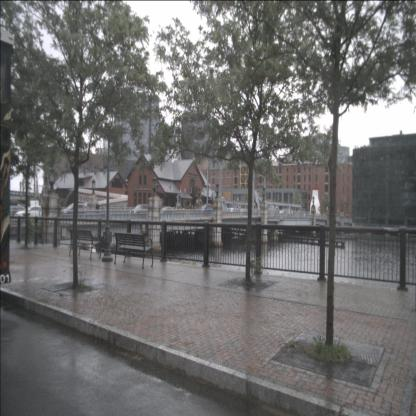human-pedestrian-adult: (95, 200, 100, 221)
vehicle-car: (61, 203, 86, 221), (15, 206, 42, 220), (130, 204, 149, 217), (200, 203, 212, 214), (161, 206, 173, 215), (280, 208, 293, 216)
